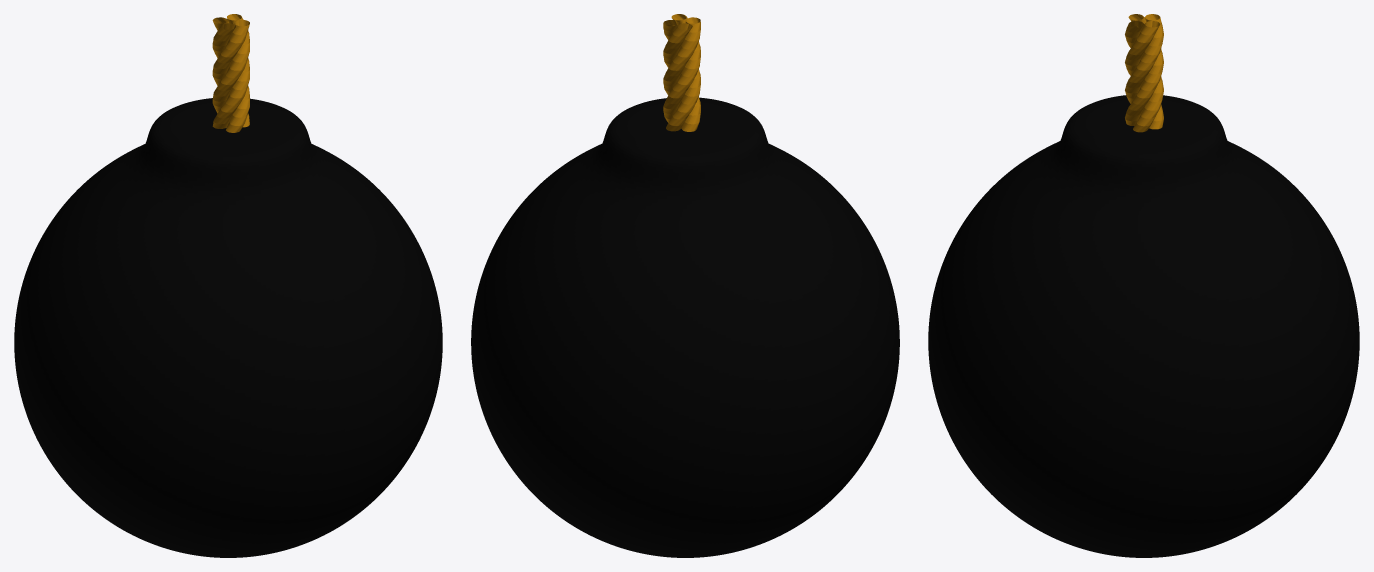
The model's file is bom.fbx.
3 views of the same model, side by side, from view 1: azimuth 30°, elevation 25°; view 2: azimuth 150°, elevation 25°; view 3: azimuth 270°, elevation 25° (orthographic).
Parts seen in each view (by area): view 1: 球.001; view 2: 球.001; view 3: 球.001.
Boxes of the visible parts, x1,y1,x2,y2 form: 球.001: (14, 14, 442, 557); 球.001: (471, 14, 899, 557); 球.001: (928, 14, 1359, 557).
Bounding box in the file's own units: 191 × 253 × 191.
